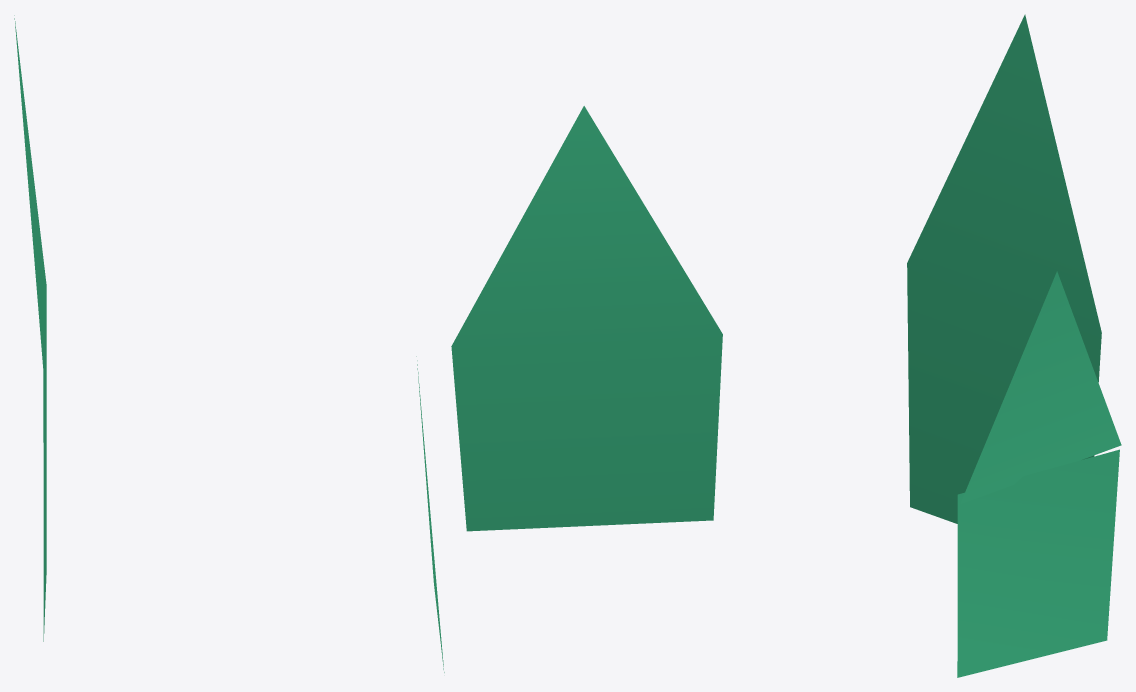
Rendered from unmowed_grass_low_LOD.glb.
The picture shows the model from 3 angles, left to right: view 1: azimuth 30°, elevation 25°; view 2: azimuth 150°, elevation 25°; view 3: azimuth 270°, elevation 25°; orthographic projection. The views are drawn at different scales.
Parts seen in each view (by area): view 1: Mesh grass; view 2: Mesh grass; view 3: Mesh grass.
Part boxes in pixels (box(x1,y1,x2,y2)): Mesh grass: box(14, 15, 46, 641); Mesh grass: box(416, 106, 722, 672); Mesh grass: box(907, 14, 1121, 677).
Bounding box in the file's own units: 0.8522 × 1.67 × 0.8751.
